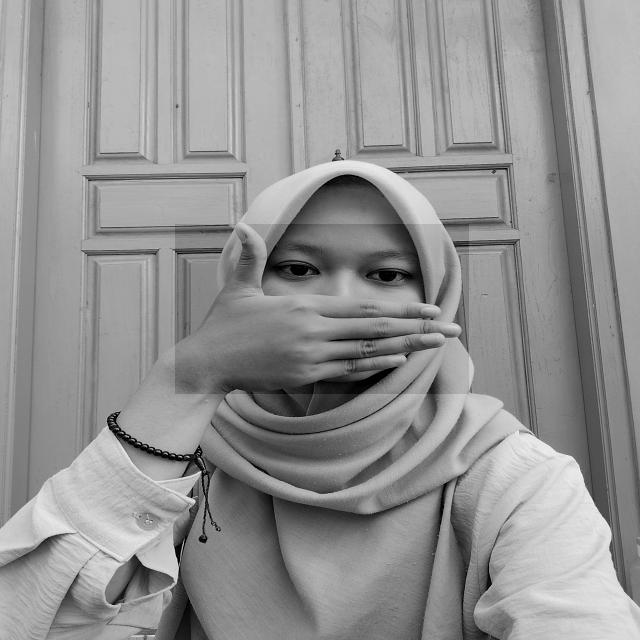buruk: (175, 224, 469, 394)
